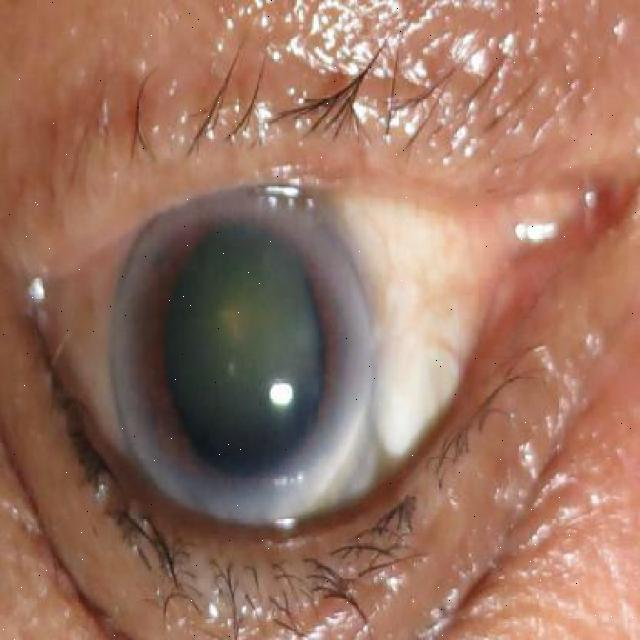Cataract: (107, 171, 370, 532)
